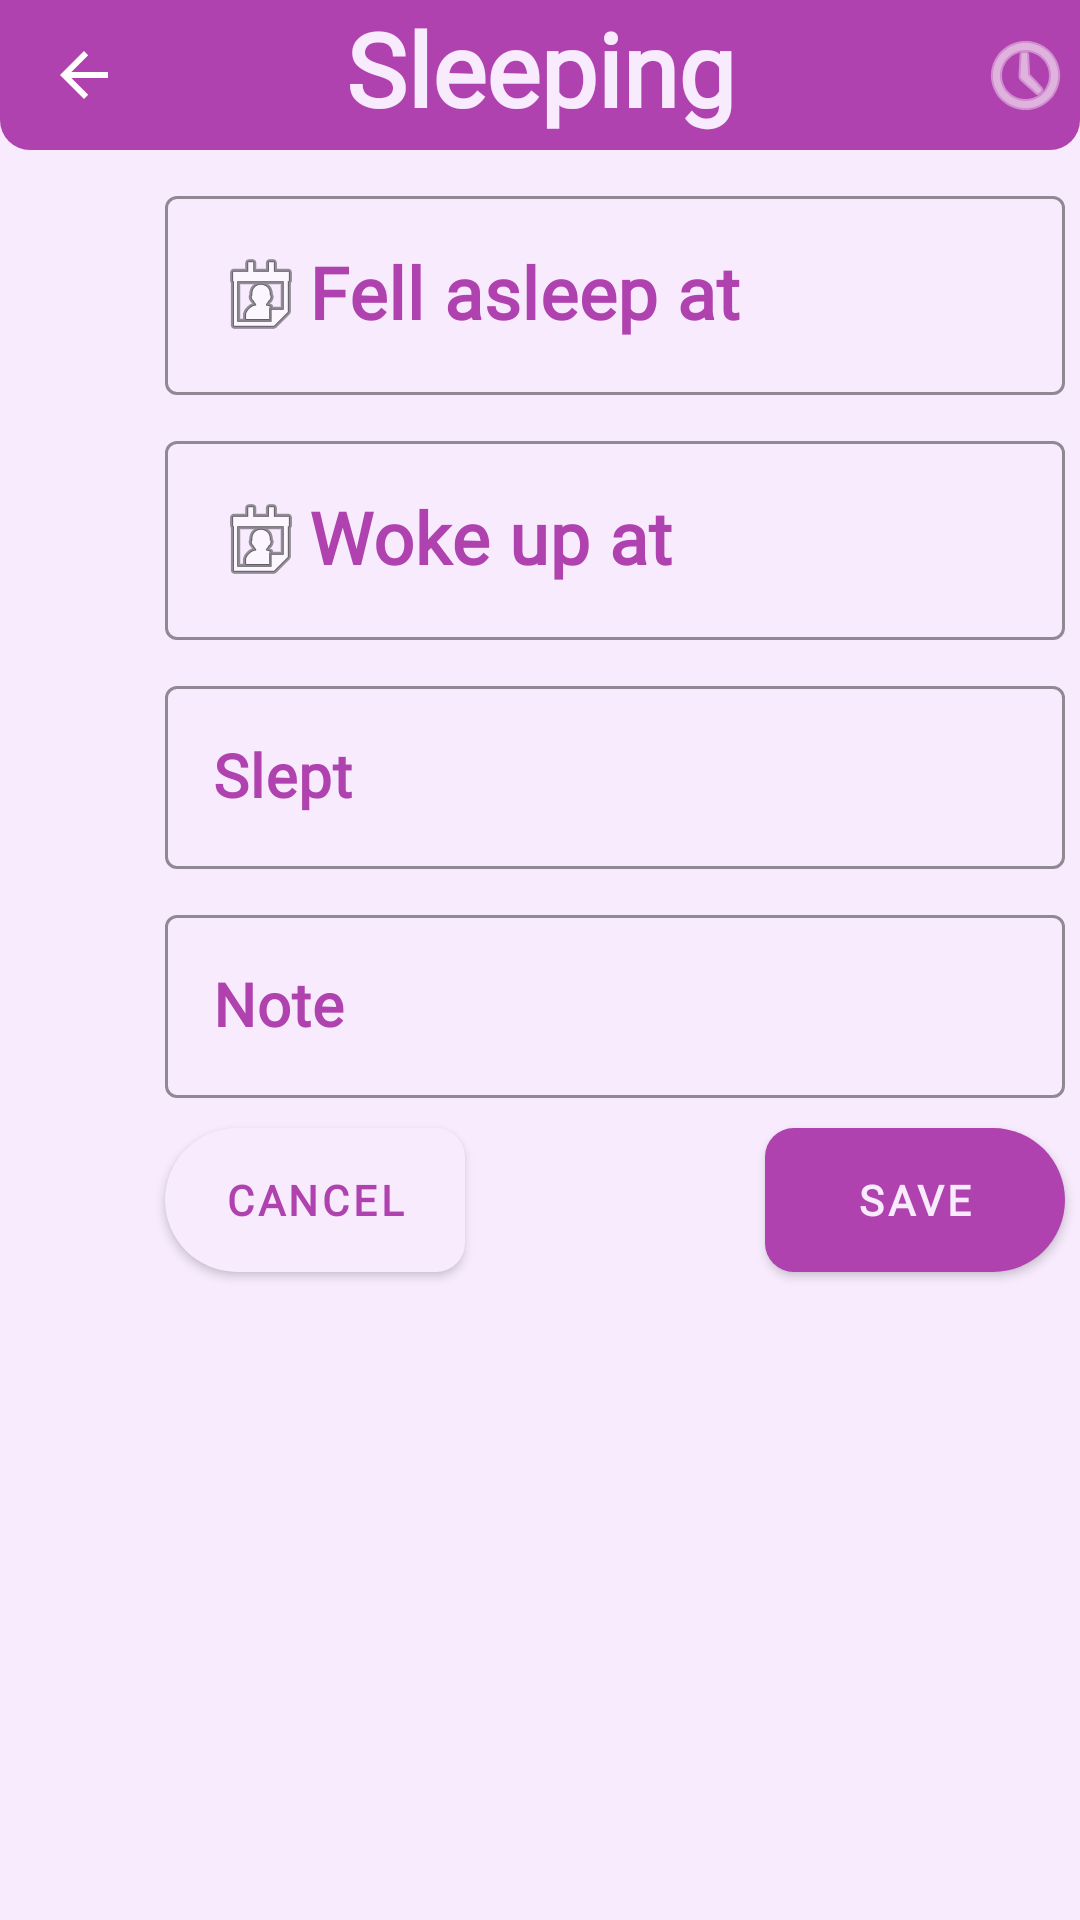

Named icons in this screenshot (1080×1920) and their centers, (x=x, y=y):
recent history: (x=1025, y=75)
